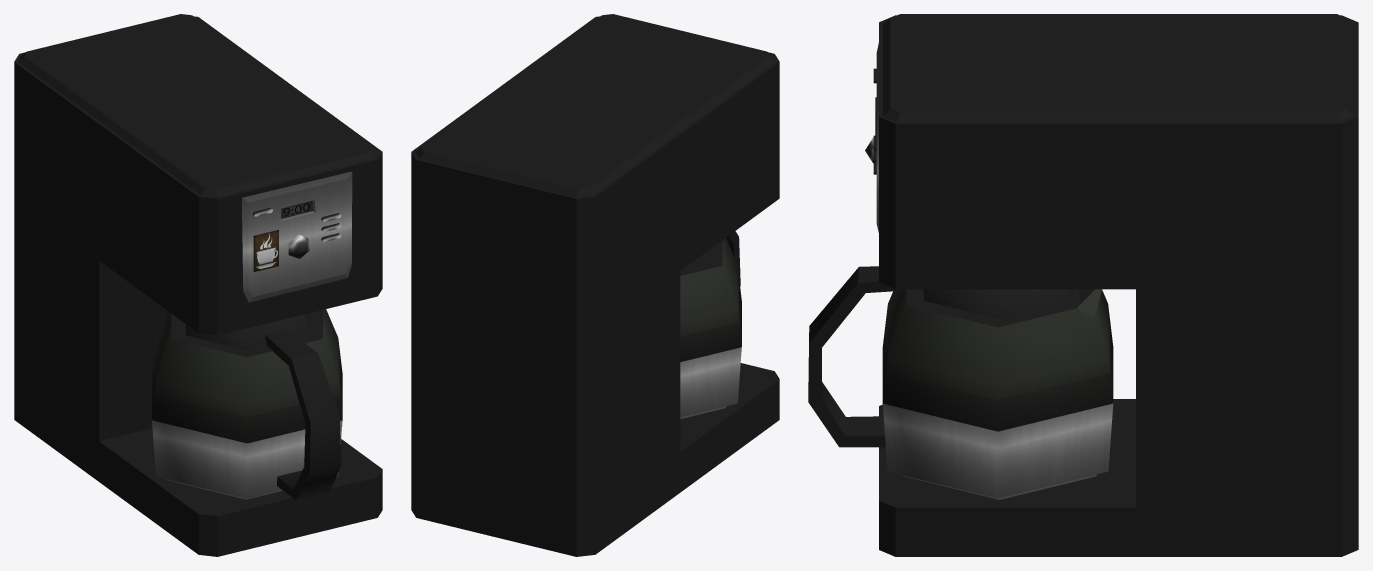
File: Coffee_Pot.FBX
The picture shows the model from 3 angles, left to right: view 1: azimuth 30°, elevation 25°; view 2: azimuth 150°, elevation 25°; view 3: azimuth 270°, elevation 25°; orthographic projection. The views are drawn at different scales.
Visible parts, largest first — view 1: Coffee_Maker; view 2: Coffee_Maker; view 3: Coffee_Maker.
Part boxes in pixels (x1,y1,x2,y2): Coffee_Maker: (14,14,382,556); Coffee_Maker: (411,14,779,556); Coffee_Maker: (808,14,1358,556).
Size of the model in its own units: 36.23 by 65.93 by 74.83.
